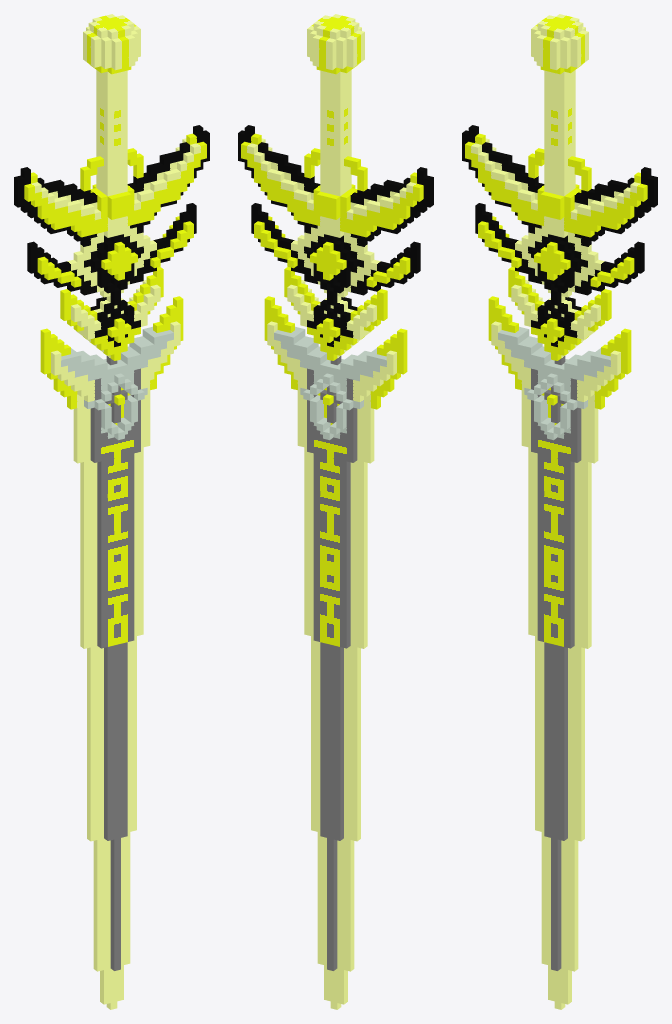
File: 圣光剑.gltf
The picture shows the model from 3 angles, left to right: view 1: azimuth 30°, elevation 25°; view 2: azimuth 150°, elevation 25°; view 3: azimuth 330°, elevation 25°; orthographic projection.
Visible parts, largest first — view 1: Object; view 2: Object; view 3: Object.
Boxes of the visible parts, x1,y1,x2,y2 form: Object: [14, 14, 209, 1009]; Object: [238, 14, 433, 1009]; Object: [462, 14, 657, 1009].
Size of the model in its own units: 29 by 142 by 7.
1 material, 1 textured.
